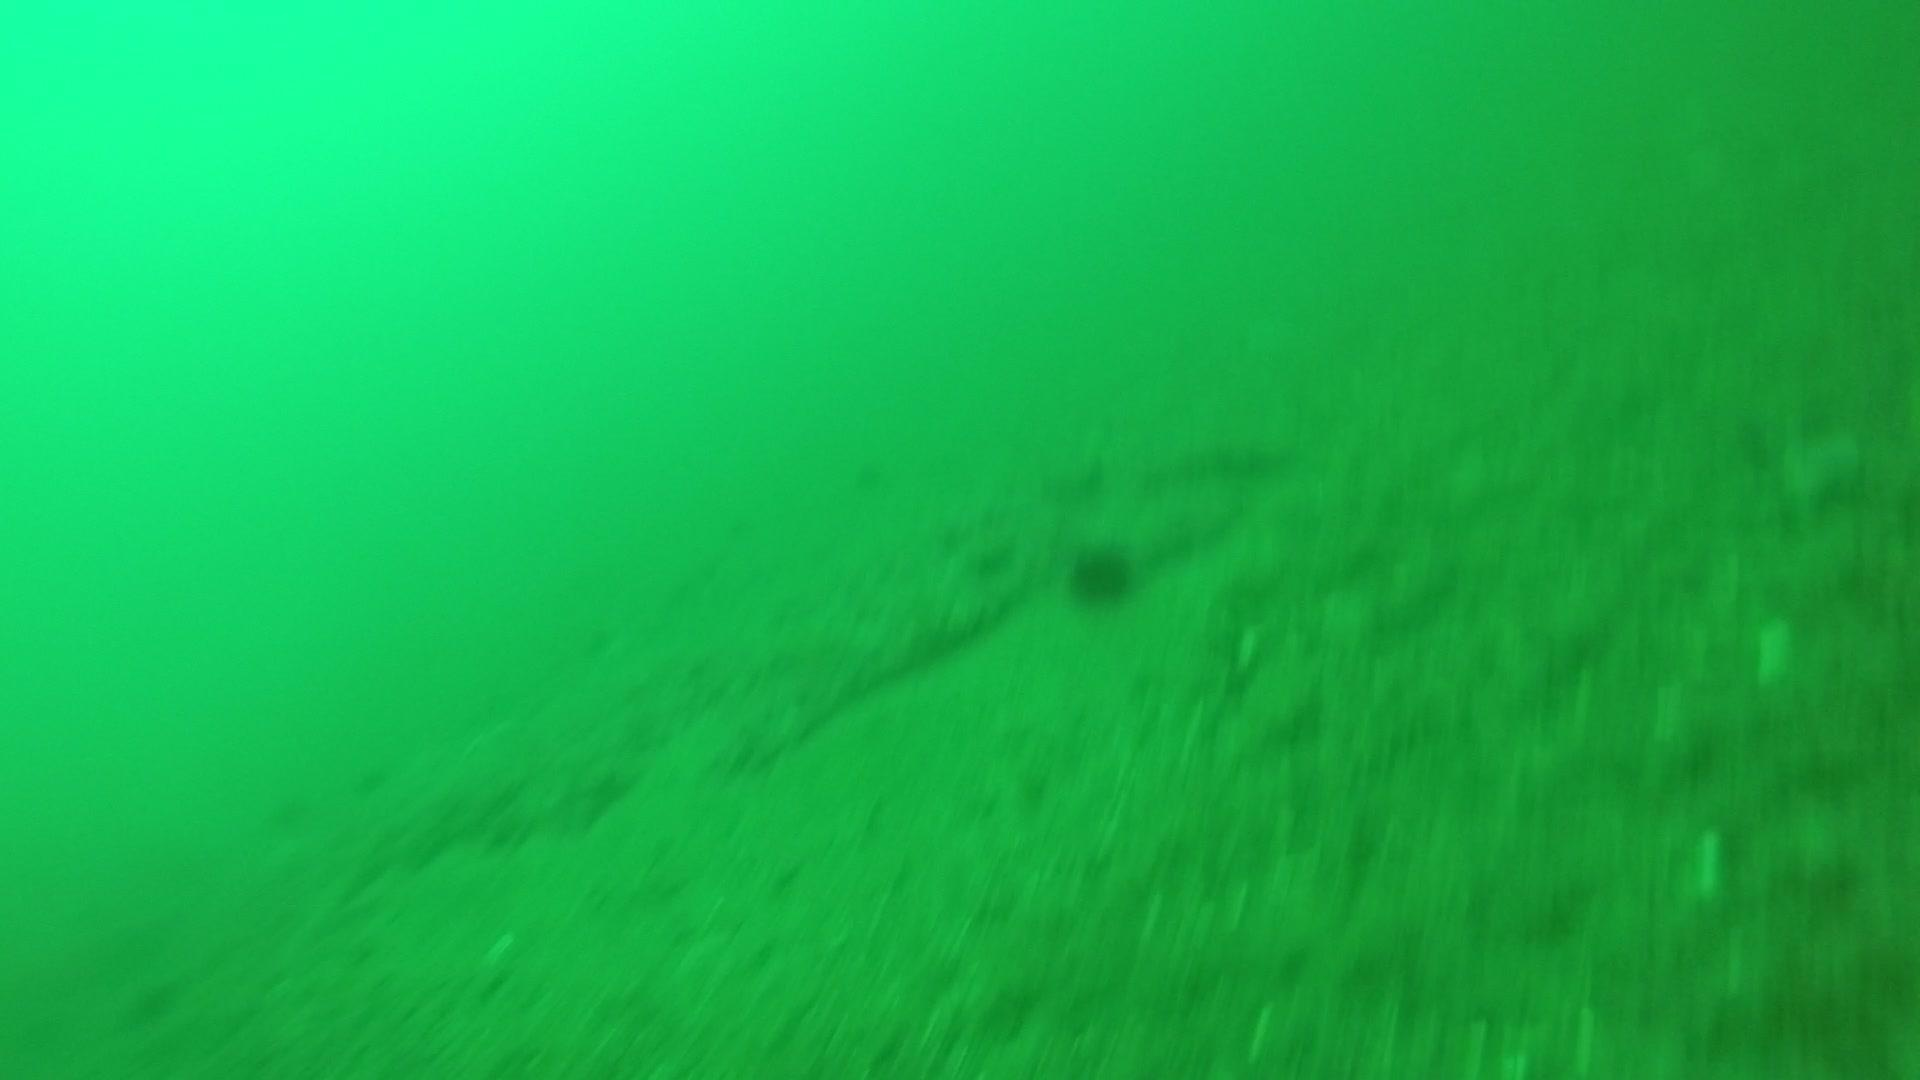echinus: (1063, 538, 1141, 611)
